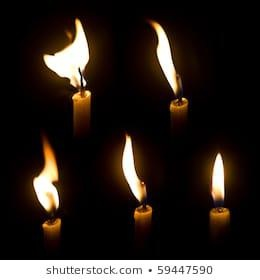fire: (43, 16, 89, 89), (31, 134, 61, 218), (151, 19, 181, 99), (120, 132, 147, 205), (208, 151, 225, 204)
